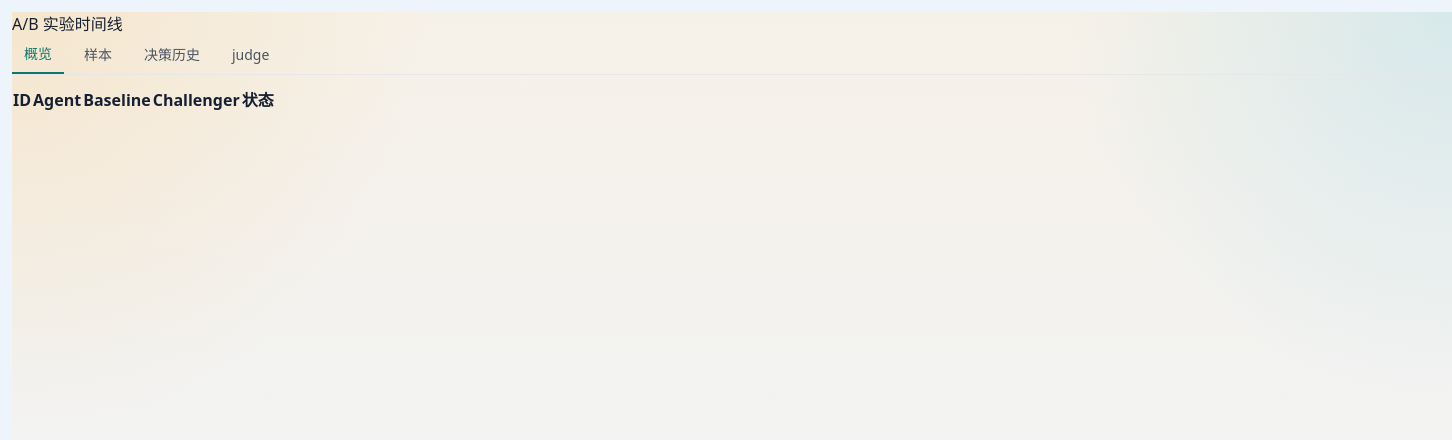
Test: ExperimentView Judge tab › renders judge metric cards when judge tab is active
Click the button with test id "judge": {"x": 251, "y": 55} x1=220 y1=36 x2=281 y2=74
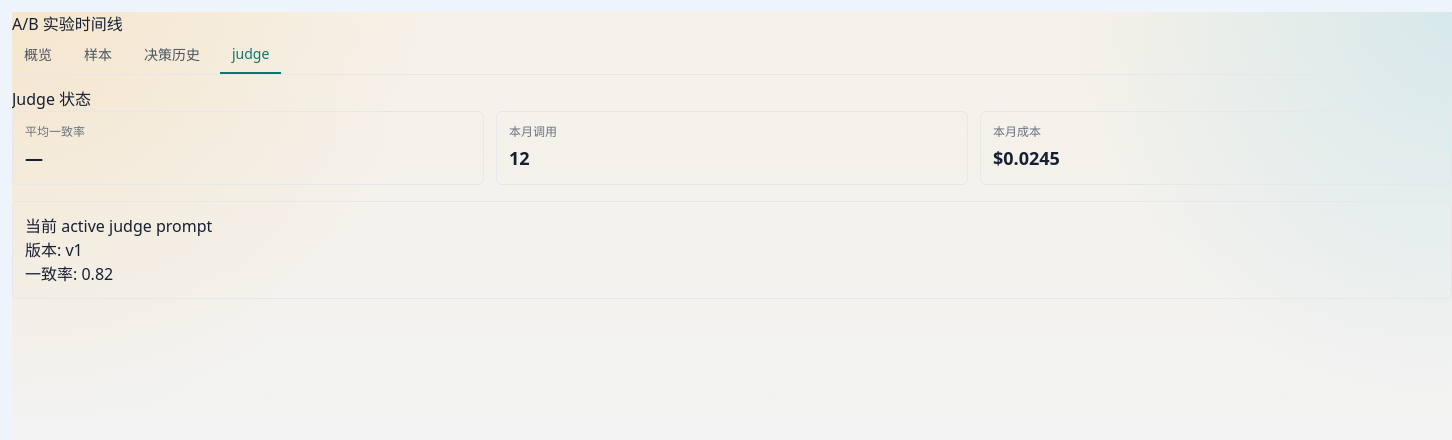
Now the text "一致率" is shown, box x1=25 y1=123 x2=85 y2=140
Now the text "本月调用" is shown, box x1=509 y1=123 x2=557 y2=140
Now the text "本月成本" is shown, box x1=993 y1=123 x2=1041 y2=140
